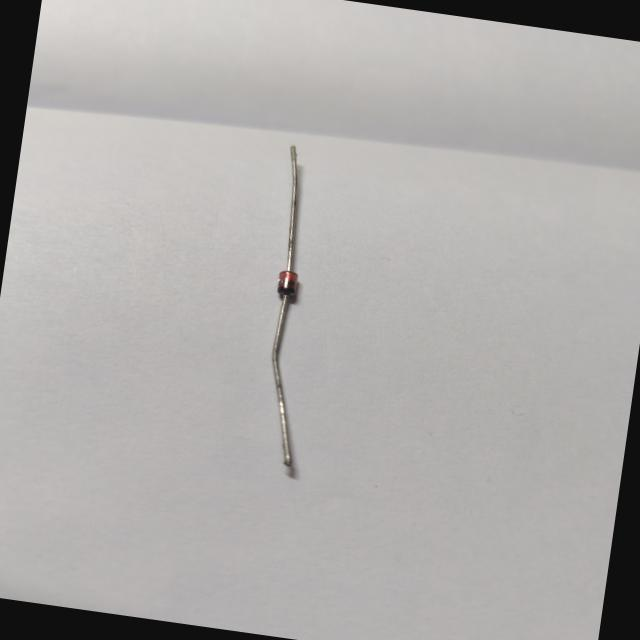resistor: (221, 138, 371, 488)
